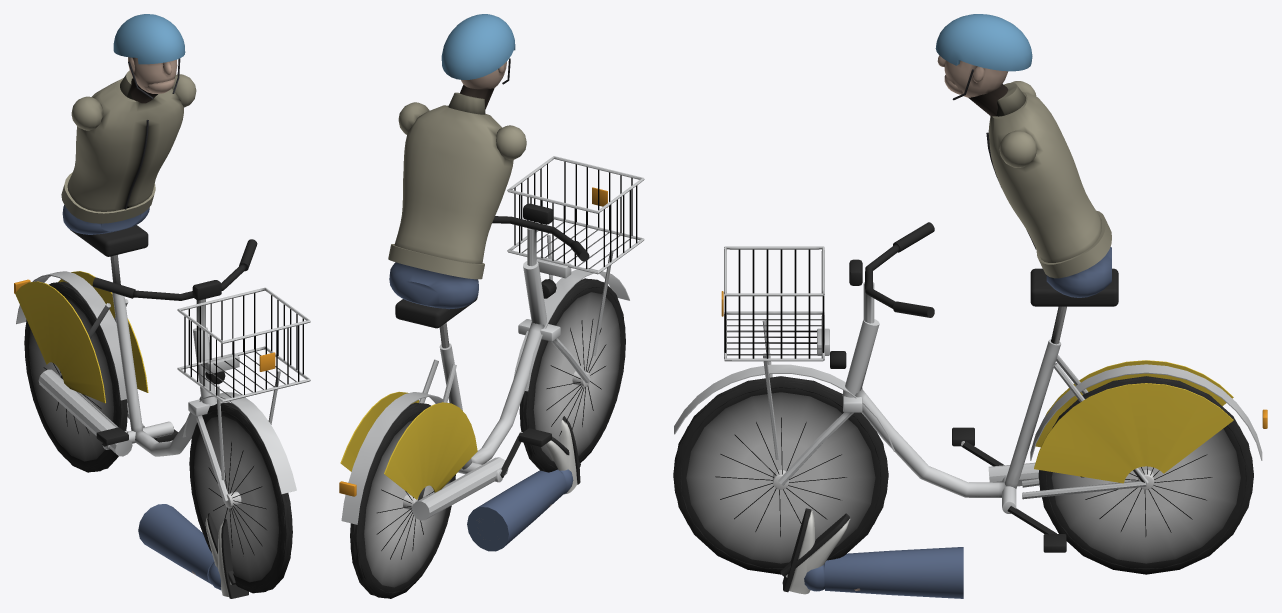
File: villo.raw.glb
The picture shows the model from 3 angles, left to right: view 1: azimuth 30°, elevation 25°; view 2: azimuth 150°, elevation 25°; view 3: azimuth 270°, elevation 25°; orthographic projection. The views are drawn at different scales.
Parts seen in each view (by area): view 1: RiderTorso, Body, Wheel_F_far, Steer, Wheel_R_far, Thigh_L, Wheel_F, Wheel_R, Shin_R, Shin_L, Pedal_R; view 2: RiderTorso, Body, Wheel_F_far, Steer, Wheel_R_far, Thigh_L, Wheel_F, Wheel_R, Shin_L, Shin_R, Pedal_R; view 3: Wheel_F_far, Body, RiderTorso, Wheel_R_far, Steer, Thigh_L, Wheel_F, Wheel_R, Shin_R, Shin_L.
Part boxes in pixels (x1,y1,x2,y2): RiderTorso: (61,14,196,234); Body: (14,225,216,456); Wheel_F_far: (189,402,292,593); Steer: (92,239,310,502); Wheel_R_far: (24,281,127,472); Thigh_L: (138,504,220,590); Wheel_F: (189,403,292,592); Wheel_R: (24,282,127,471); Shin_R: (218,519,248,598); Shin_L: (205,513,235,584); Pedal_R: (96,427,128,445); RiderTorso: (388,14,526,309); Body: (339,261,547,524); Wheel_F_far: (519,278,625,472); Steer: (492,156,644,391); Wheel_R_far: (350,402,455,598); Thigh_L: (467,469,573,551); Wheel_F: (520,279,625,471); Wheel_R: (350,403,455,598); Shin_L: (474,436,580,543); Shin_R: (560,416,580,494); Pedal_R: (518,428,551,446); Wheel_F_far: (673,376,888,574); Body: (842,268,1267,513); RiderTorso: (935,14,1111,297); Wheel_R_far: (1038,376,1253,574); Steer: (674,222,934,485); Thigh_L: (804,547,963,598); Wheel_F: (673,378,888,572); Wheel_R: (1038,377,1253,572); Shin_R: (782,508,815,594); Shin_L: (780,513,850,577).
Size of the model in its own units: 0.6452 by 1.96 by 1.82.
